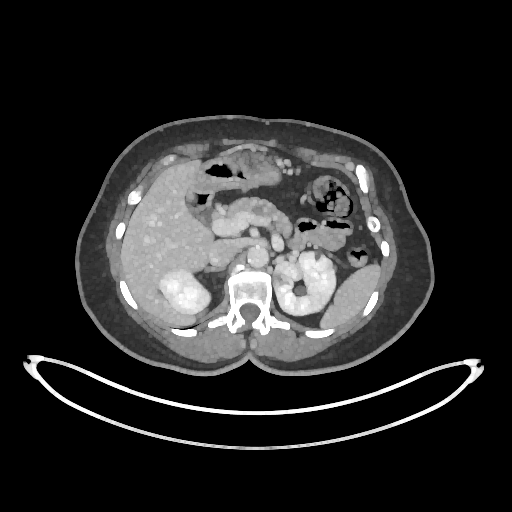Lesion: (274, 271, 295, 291)
